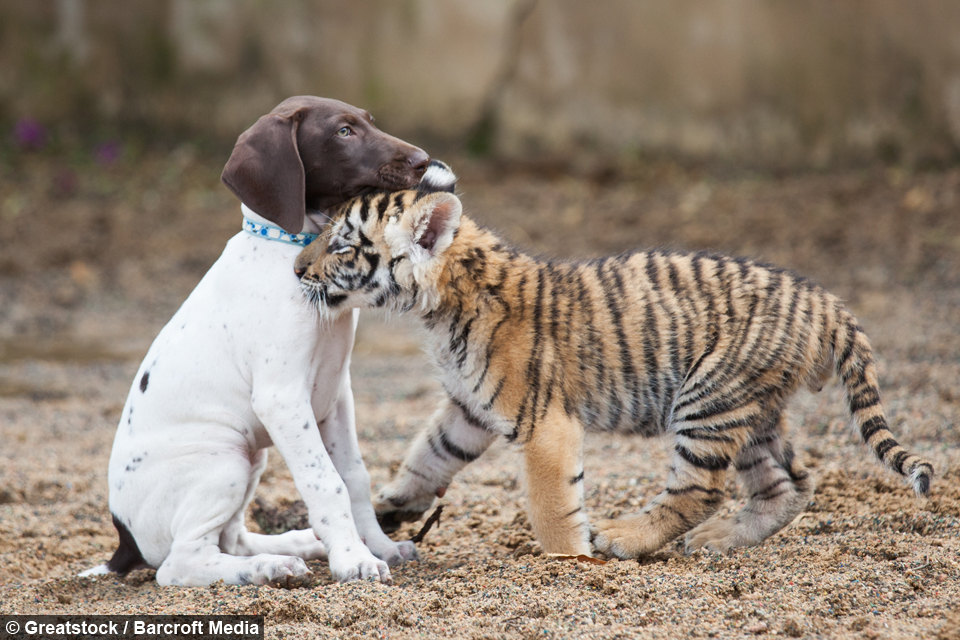dog: (97, 91, 434, 589)
tiger: (304, 189, 915, 545)
